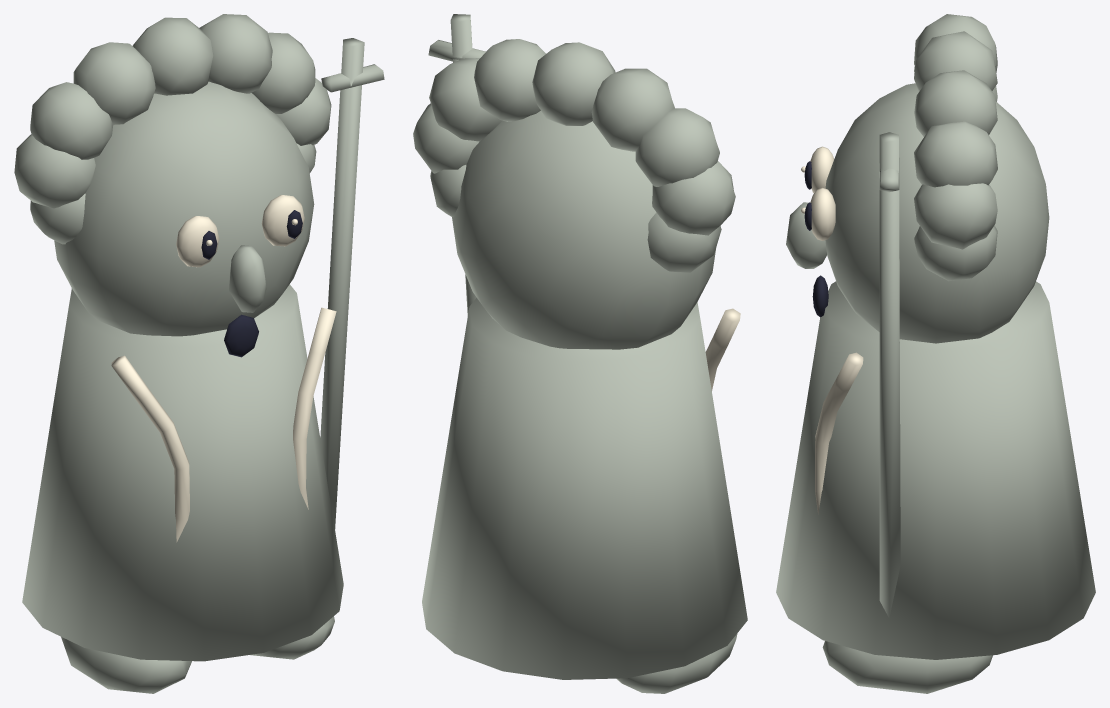
Rendered from nemesis.glb.
3 views of the same model, side by side, from view 1: azimuth 30°, elevation 25°; view 2: azimuth 150°, elevation 25°; view 3: azimuth 270°, elevation 25° (orthographic). The views are drawn at different scales.
Parts seen in each view (by area): view 1: nemesis_toy-sw-grey, nemesis_toy-sw-paper, nemesis_toy-sw-ink; view 2: nemesis_toy-sw-grey, nemesis_toy-sw-paper; view 3: nemesis_toy-sw-grey, nemesis_toy-sw-paper, nemesis_toy-sw-ink.
Boxes of the visible parts, bbox=[...] form: nemesis_toy-sw-grey: bbox=[14, 14, 384, 693]; nemesis_toy-sw-paper: bbox=[111, 195, 336, 542]; nemesis_toy-sw-ink: bbox=[201, 210, 302, 357]; nemesis_toy-sw-grey: bbox=[413, 14, 747, 693]; nemesis_toy-sw-paper: bbox=[705, 308, 740, 390]; nemesis_toy-sw-grey: bbox=[776, 14, 1095, 693]; nemesis_toy-sw-paper: bbox=[801, 146, 863, 514]; nemesis_toy-sw-ink: bbox=[804, 161, 828, 317].
Bounding box in the file's own units: 0.54 × 0.98 × 0.4602.
